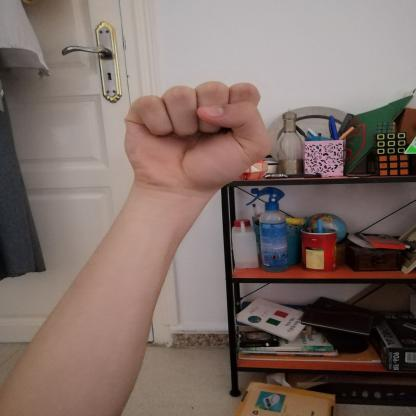SAD: (109, 67, 283, 201)
